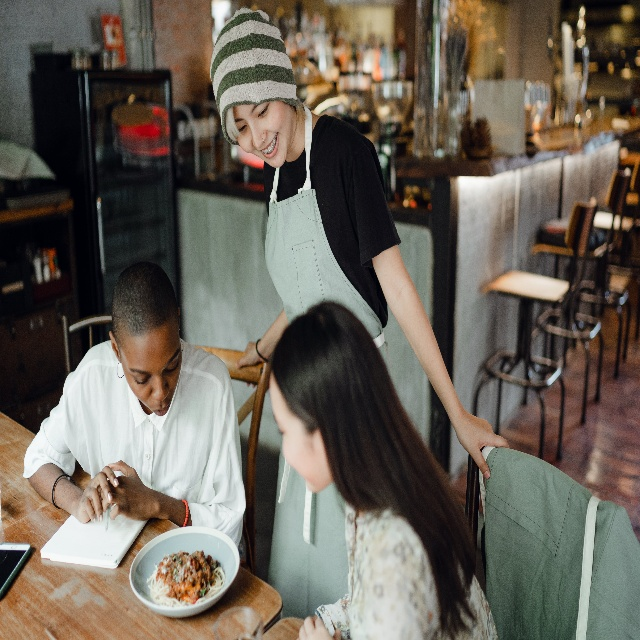Sin_guantes: (102, 460, 159, 527), (460, 405, 509, 481), (80, 471, 122, 523), (297, 615, 343, 640), (236, 340, 267, 374)
